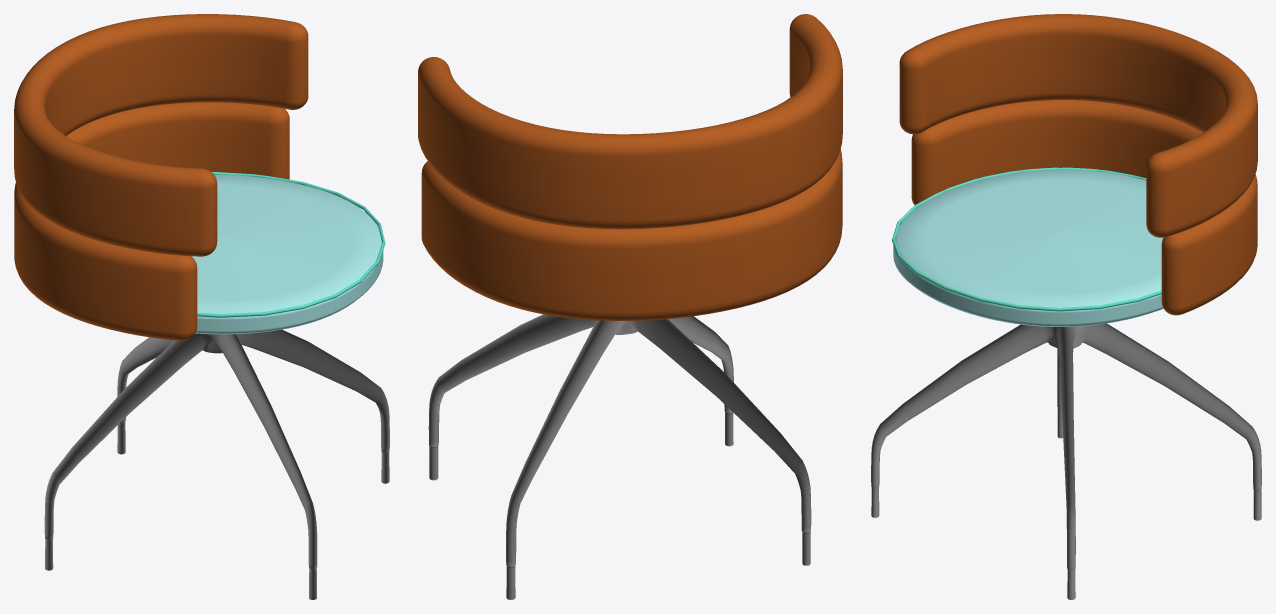
File: SillaBar.obj
The picture shows the model from 3 angles, left to right: view 1: azimuth 30°, elevation 25°; view 2: azimuth 150°, elevation 25°; view 3: azimuth 270°, elevation 25°; orthographic projection. The views are drawn at different scales.
Visible parts, largest first — view 1: ChamferBox003, ChamferBox002, Spindle001, obj_04, Loft001; view 2: ChamferBox003, ChamferBox002, obj_04; view 3: ChamferBox003, Spindle001, ChamferBox002, obj_04, Loft001.
Boxes of the visible parts, x1,y1,x2,y2 form: ChamferBox003: [14, 14, 308, 256]; ChamferBox002: [14, 102, 289, 340]; Spindle001: [191, 174, 383, 334]; obj_04: [44, 329, 389, 599]; Loft001: [197, 172, 385, 317]; ChamferBox003: [418, 14, 842, 229]; ChamferBox002: [421, 149, 842, 320]; obj_04: [428, 314, 811, 599]; ChamferBox003: [899, 14, 1257, 237]; Spindle001: [893, 169, 1163, 326]; ChamferBox002: [911, 100, 1257, 315]; obj_04: [871, 323, 1261, 599]; Loft001: [892, 167, 1161, 311].
Bounding box in the file's own units: 568 × 664 × 557.
